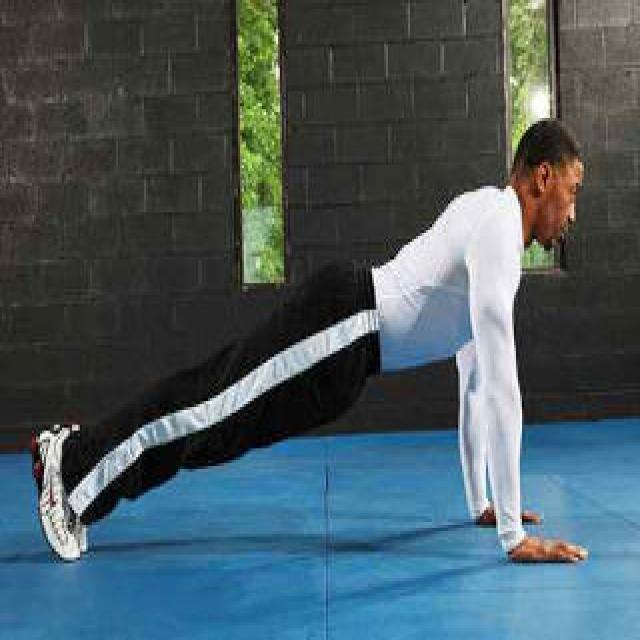yoga-pose plank: (33, 119, 594, 575)
